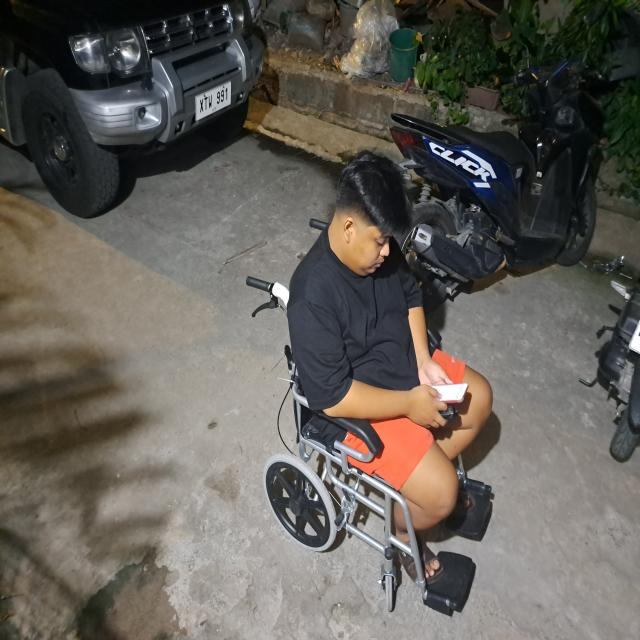wheelchairs: (242, 272, 499, 618)
